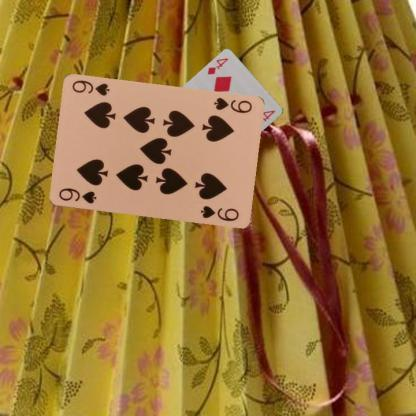4d: (204, 56, 230, 76)
9s: (211, 95, 253, 115), (56, 186, 97, 206)
